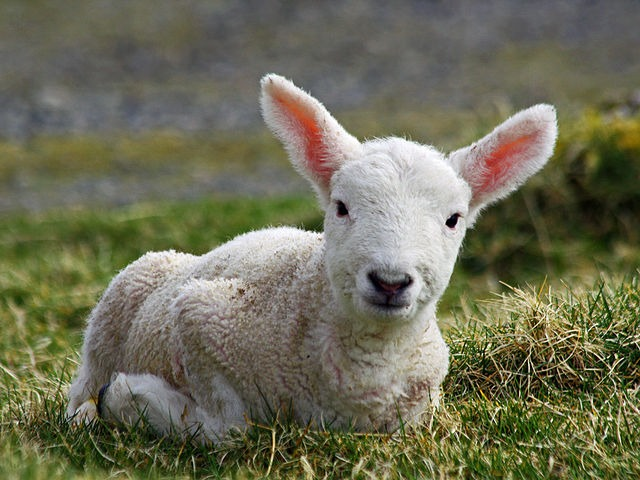resting: (64, 71, 558, 457)
